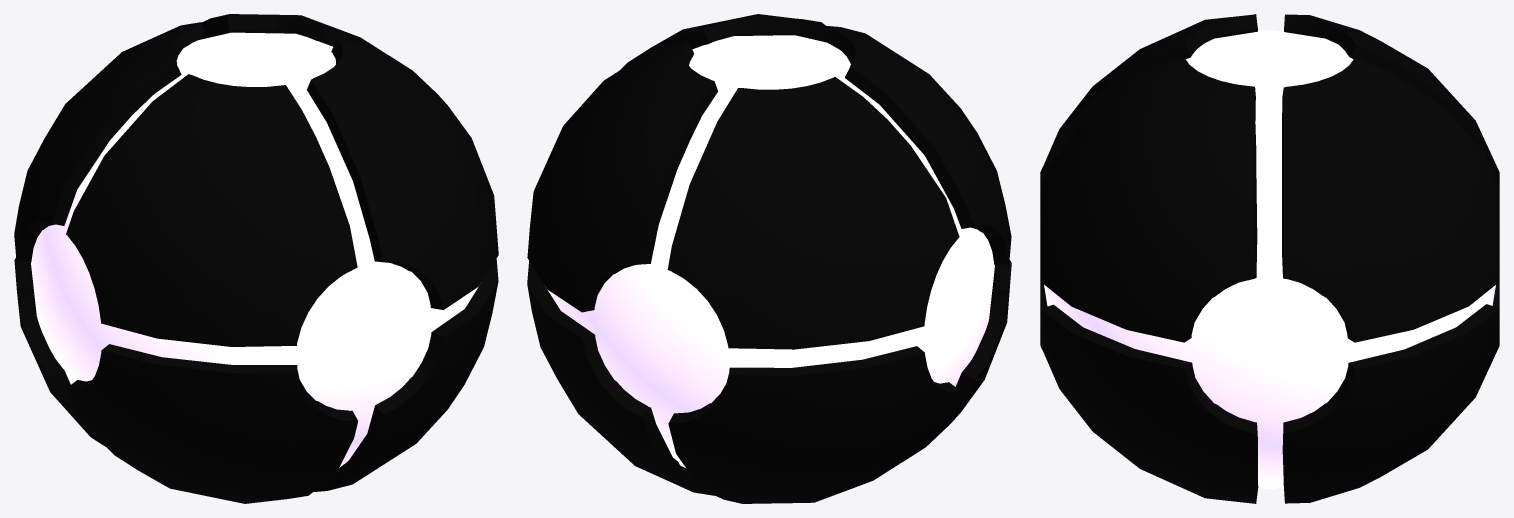
File: shar.fbx
3 renders of one model, left to right at view 1: azimuth 30°, elevation 25°; view 2: azimuth 150°, elevation 25°; view 3: azimuth 270°, elevation 25°, orthographic.
Parts seen in each view (by area): view 1: Икосфера; view 2: Икосфера; view 3: Икосфера.
Part boxes in pixels (<box>): Икосфера: <box>14,14,498,503</box>; Икосфера: <box>527,14,1011,503</box>; Икосфера: <box>1040,14,1499,503</box>.
Size of the model in its own units: 39.24 by 39.29 by 39.24.
